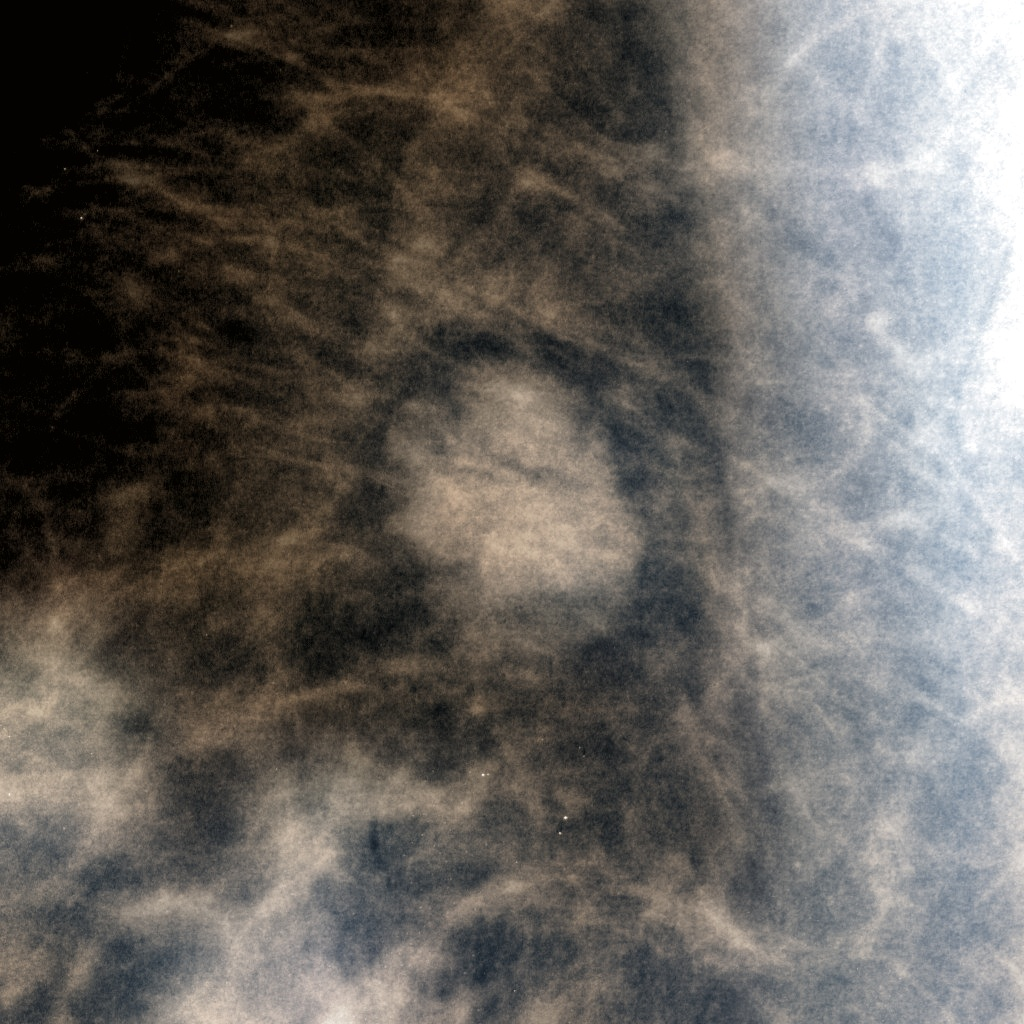tumor: (384, 372, 640, 652)
